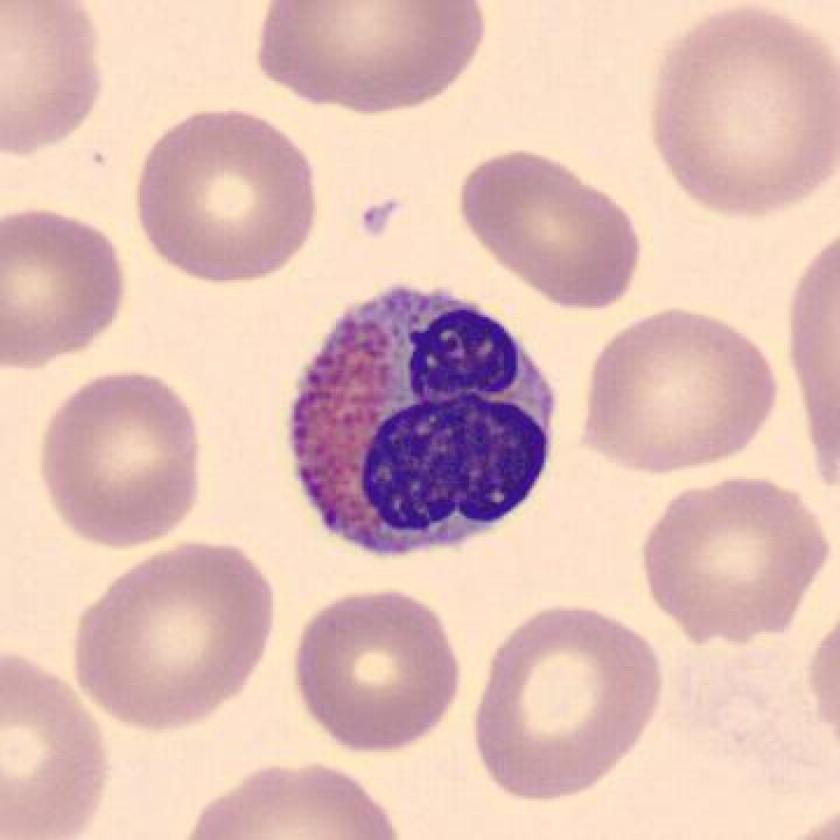eosinophil: (277, 272, 571, 568)
